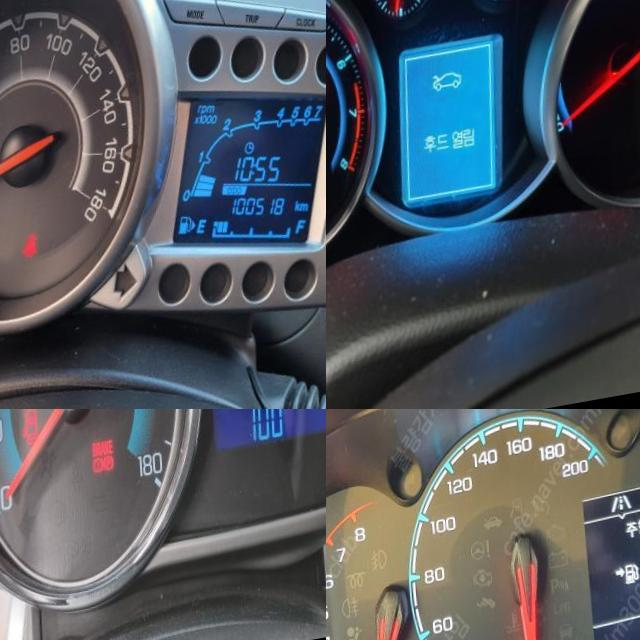Doors: (16, 412, 33, 452)
